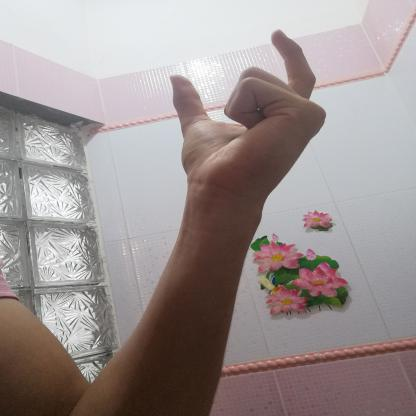NOON: (159, 20, 342, 207)
